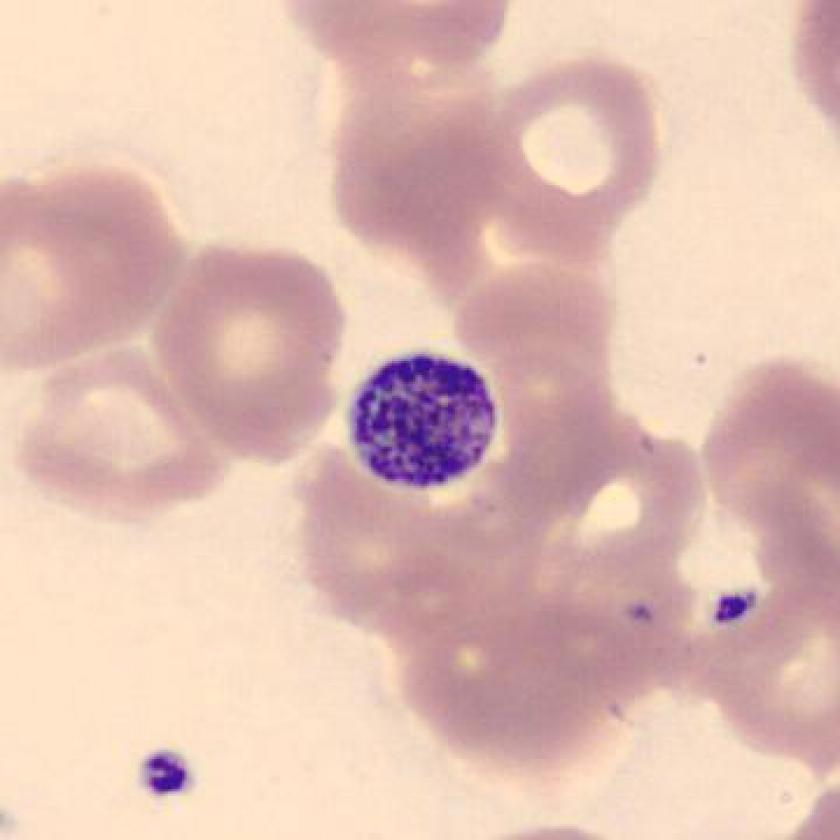platelets: (344, 348, 503, 499), (136, 737, 197, 806)
